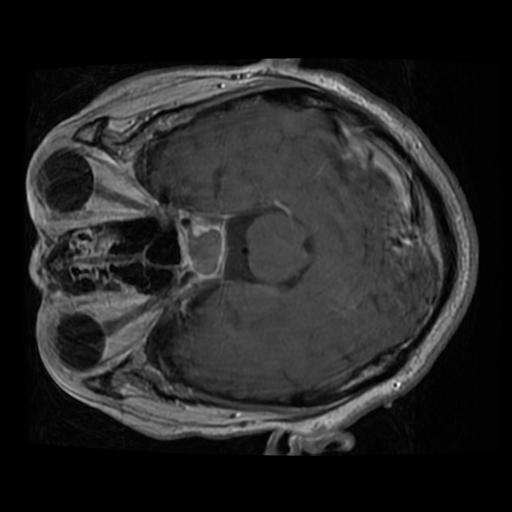pituitary tumour: (183, 223, 226, 278)
